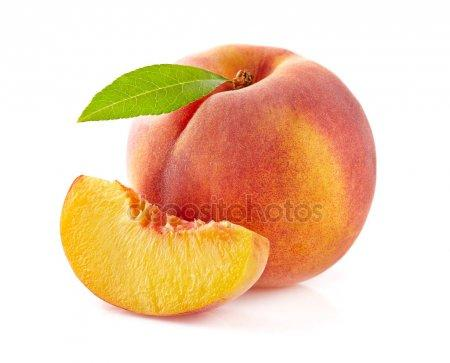Peach leaf: (62, 63, 237, 129)
